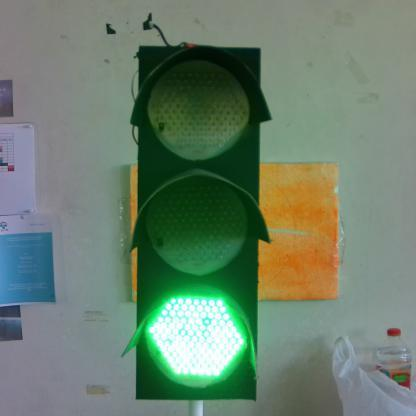green: (139, 43, 260, 406)
